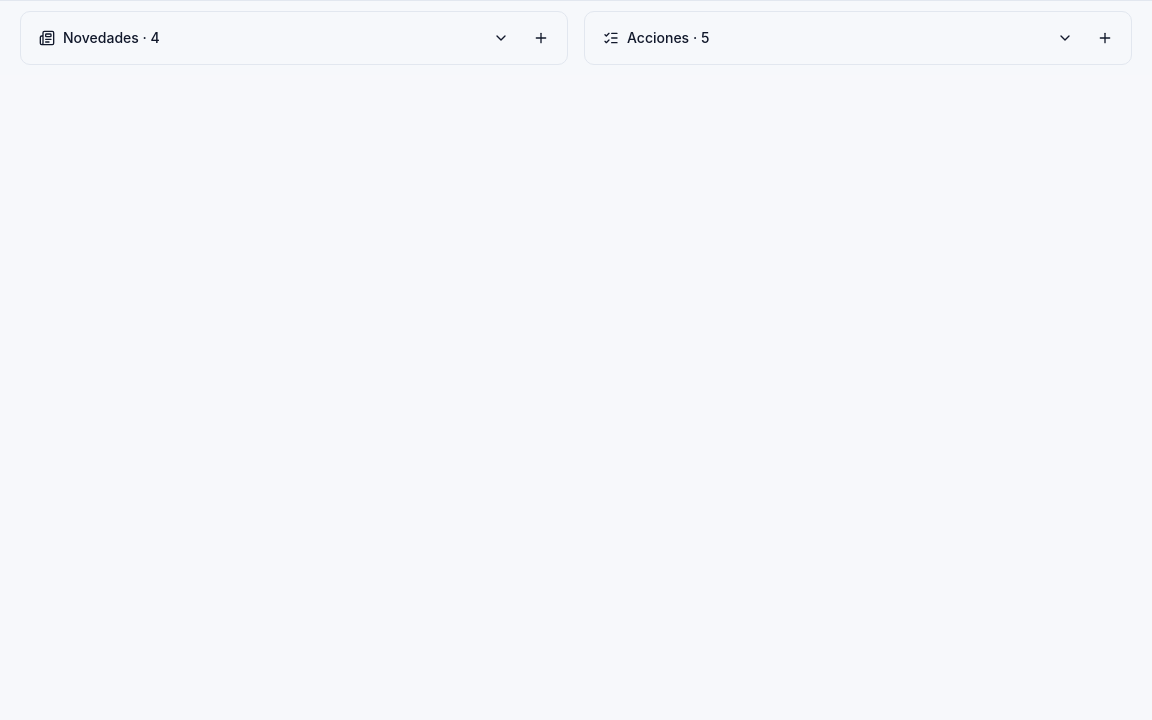
CasePortfolioFollowUp › opens a contextual novelty sheet without expanding its preview
The width and height of the screenshot is (1152, 720).
Step 1. Click the button named "Añadir novedad" → click(541, 38), box [523,20,559,56]
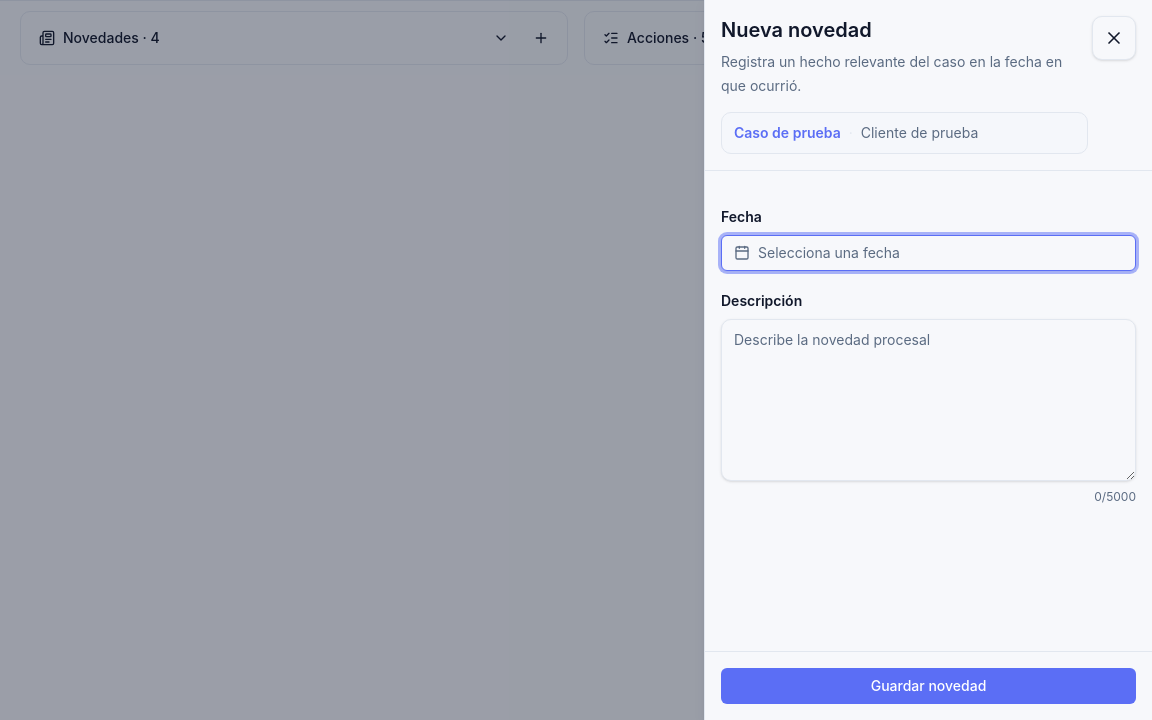
Expected: the heading "Nueva novedad" is shown, [721,18,872,42]
Expected: the element named "Contexto del caso" shows "Caso de prueba", [734,123,841,143]
Expected: the element named "Contexto del caso" shows "Cliente de prueba", [861,124,978,141]
